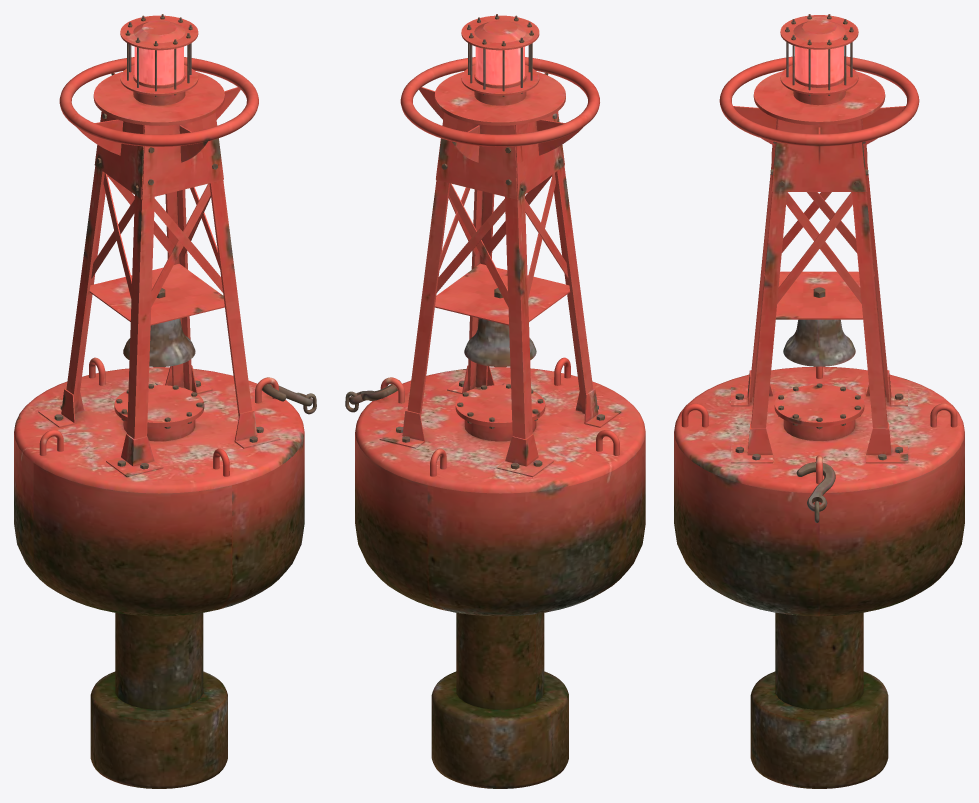
File: ocean_buoy_1k.gltf
The picture shows the model from 3 angles, left to right: view 1: azimuth 30°, elevation 25°; view 2: azimuth 150°, elevation 25°; view 3: azimuth 270°, elevation 25°; orthographic projection.
Visible parts, largest first — view 1: ocean_buoy; view 2: ocean_buoy; view 3: ocean_buoy.
Part boxes in pixels (bbox=[...]): ocean_buoy: bbox=[14, 14, 316, 788]; ocean_buoy: bbox=[345, 14, 645, 788]; ocean_buoy: bbox=[674, 14, 964, 788].
Bounding box in the file's own units: 1.07 × 2.66 × 0.9521.
1 material, 1 textured.
